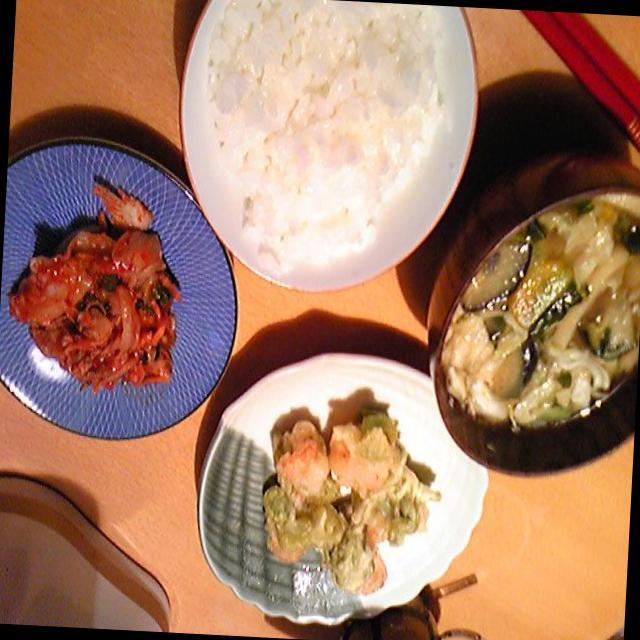Rice: (195, 3, 449, 258)
